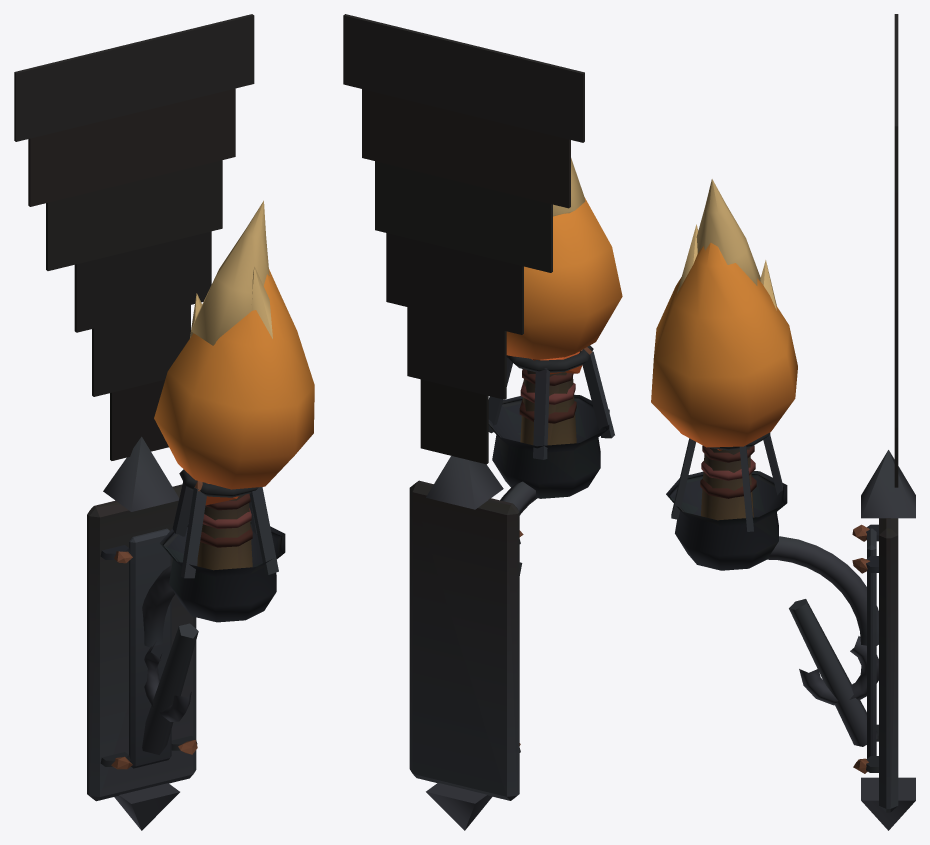
The model's file is dun-wall-torch.glb.
3 renders of one model, left to right at view 1: azimuth 30°, elevation 25°; view 2: azimuth 150°, elevation 25°; view 3: azimuth 270°, elevation 25°, orthographic. The views are drawn at different scales.
Parts seen in each view (by area): view 1: dun_wall_torch; view 2: dun_wall_torch; view 3: dun_wall_torch.
Boxes of the visible parts, <box> form: dun_wall_torch: <box>14,14,314,830</box>; dun_wall_torch: <box>343,14,622,830</box>; dun_wall_torch: <box>651,14,915,830</box>.
Size of the model in its own units: 0.3564 by 1.12 by 0.3552.
